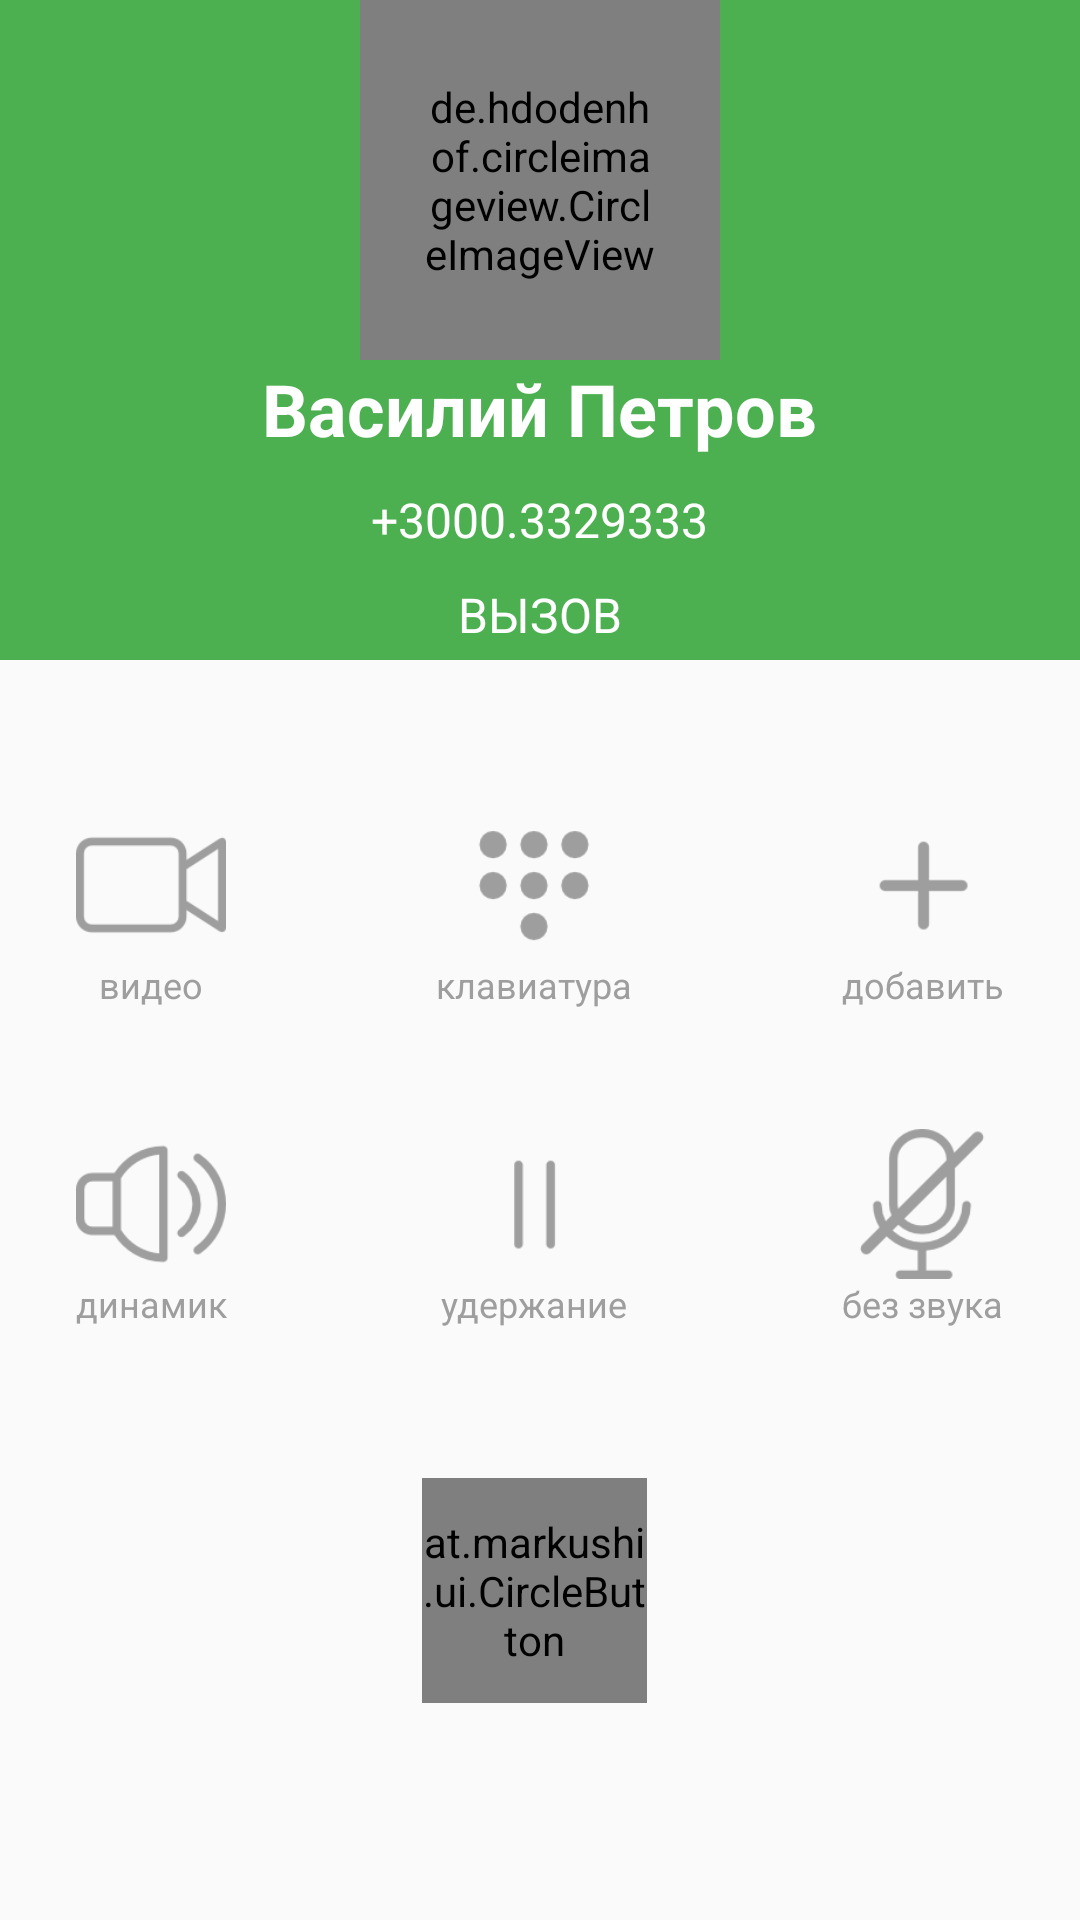

Icon bounding boxes for this 1080px×1920px phone screenshot, format (x1, y1, x2, y2):
camera: (76, 837, 226, 933)
pause: (514, 1160, 555, 1249)
plus: (879, 841, 968, 930)
